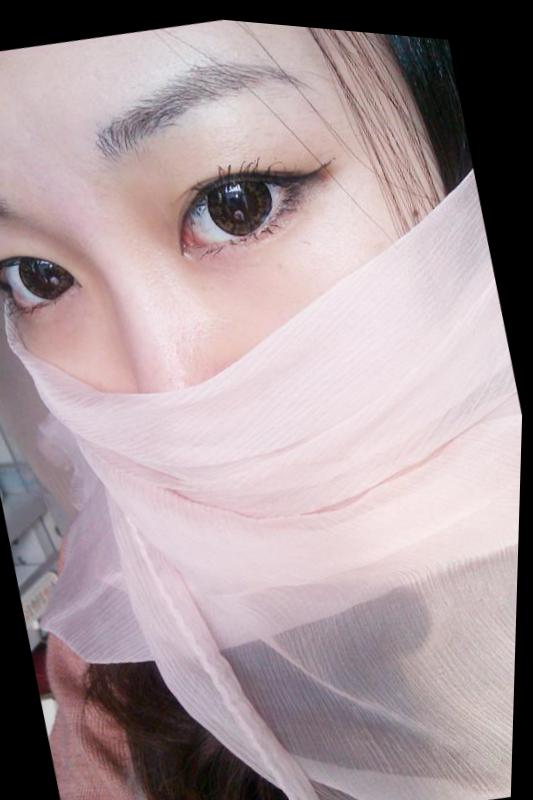WRONG: (1, 1, 492, 615)
